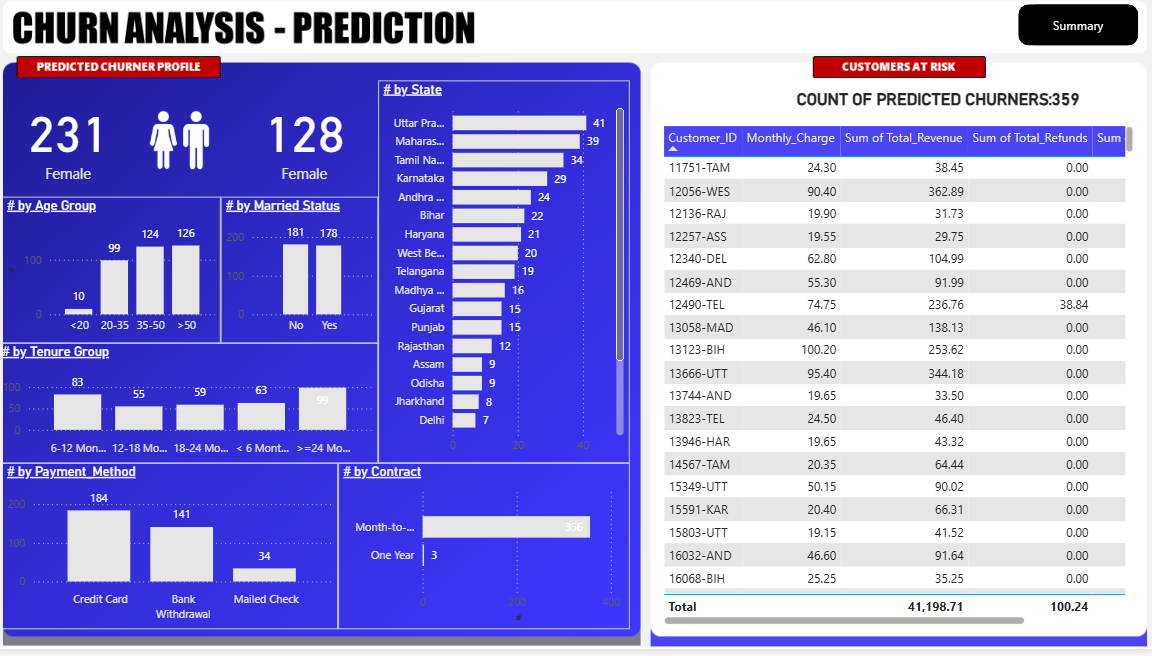

Layout of this report page (visuals, bound fields, positions):
{"tool":"powerbi","page":{"name":"Churn Prediction","canvas":[1280,720],"ordinal":2},"visuals":[{"type":"tableEx","fields":{"Values":["Predictions.Customer_ID","Predictions.Monthly_Charge","Sum(Predictions.Total_Revenue)","Sum(Predictions.Total_Refunds)","Sum(Predictions.Number_of_Referrals)"]},"box":[731.4,141.3,526.9,557.1],"z":0},{"type":"card","fields":{"Values":["tbl_measures.Title Predicted Churners"]},"box":[857.6,94.7,362.3,45.3],"z":1000},{"type":"card","fields":{"Values":["tbl_measures.Count Predicted Churner"]},"box":[11,96.1,145.5,127.6],"z":2000},{"type":"card","fields":{"Values":["tbl_measures.Count Predicted Churner"]},"box":[262.1,96.1,161.9,127.6],"z":3000},{"type":"clusteredColumnChart","fields":{"Category":["mapping_AgeGrp.Age Group"],"Y":["CountNonNull(Predictions.Customer_ID)"]},"box":[11,223.7,240.1,160.5],"z":4000},{"type":"clusteredColumnChart","fields":{"Category":["Predictions.Married"],"Y":["CountNonNull(Predictions.Customer_ID)"]},"box":[251.1,223.7,172.9,160.5],"z":5000},{"type":"clusteredColumnChart","fields":{"Y":["CountNonNull(Predictions.Customer_ID)"],"Category":["mapping_TenureGrp.Tenure Group"]},"box":[5.5,384.2,418.5,131.7],"z":6000},{"type":"clusteredColumnChart","fields":{"Y":["CountNonNull(Predictions.Customer_ID)"],"Category":["Predictions.Payment_Method"]},"box":[11,516,369.1,182.5],"z":7000},{"type":"clusteredBarChart","fields":{"Category":["Predictions.Contract"],"Y":["CountNonNull(Predictions.Customer_ID)"]},"box":[380.1,516,319.7,182.5],"z":8000},{"type":"barChart","fields":{"Category":["Predictions.State"],"Y":["CountNonNull(Predictions.Customer_ID)"]},"box":[424,96.1,275.8,419.9],"z":9000},{"type":"image","box":[160.5,112.5,90.6,96.1],"z":10000},{"type":"shape","box":[1134.8,12.3,123.5,45.3],"z":11000},{"type":"shape","box":[1126.6,12.3,131.7,45.3],"z":12000}]}

Visuals, with their boxes in screenshot pixels (x1, y1, x2, y2), scaled from the page's 1280x720 canvas onto the 1152x656 screenshot:
tableEx - Predictions.Customer_ID x Predictions.Monthly_Charge: box(658, 129, 1132, 636)
card - tbl_measures.Title Predicted Churners: box(772, 86, 1098, 128)
card - tbl_measures.Count Predicted Churner: box(10, 88, 141, 204)
card - tbl_measures.Count Predicted Churner: box(236, 88, 382, 204)
clusteredColumnChart - mapping_AgeGrp.Age Group x CountNonNull(Predictions.Customer_ID): box(10, 204, 226, 350)
clusteredColumnChart - Predictions.Married x CountNonNull(Predictions.Customer_ID): box(226, 204, 382, 350)
clusteredColumnChart - CountNonNull(Predictions.Customer_ID) x mapping_TenureGrp.Tenure Group: box(5, 350, 382, 470)
clusteredColumnChart - CountNonNull(Predictions.Customer_ID) x Predictions.Payment_Method: box(10, 470, 342, 636)
clusteredBarChart - Predictions.Contract x CountNonNull(Predictions.Customer_ID): box(342, 470, 630, 636)
barChart - Predictions.State x CountNonNull(Predictions.Customer_ID): box(382, 88, 630, 470)
image: box(144, 102, 226, 190)
shape: box(1021, 11, 1132, 52)
shape: box(1014, 11, 1132, 52)
